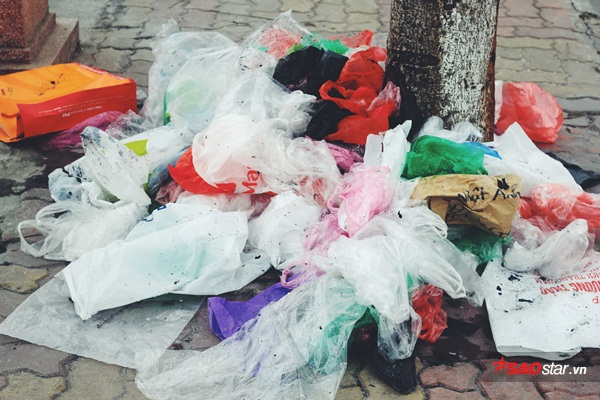plastic bag: (1, 8, 600, 400)
